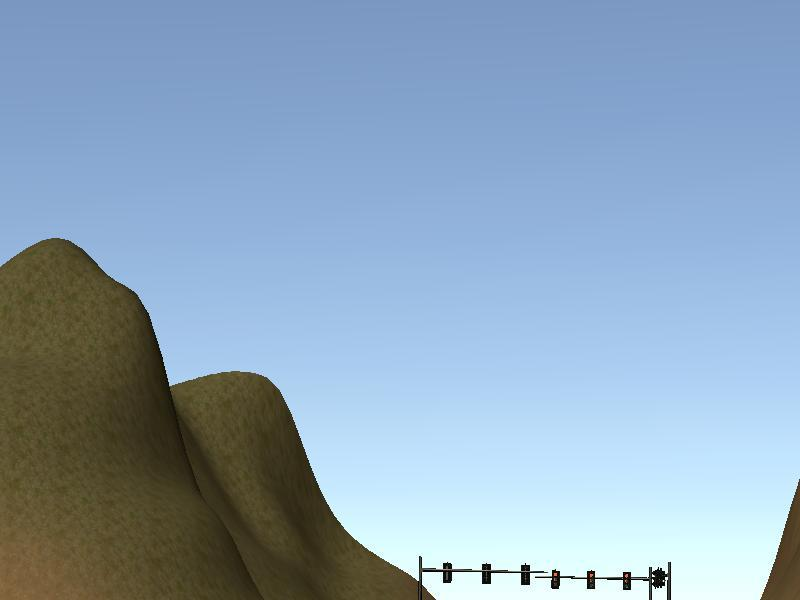Red: (622, 571, 631, 592), (586, 570, 595, 590), (552, 569, 560, 591)
